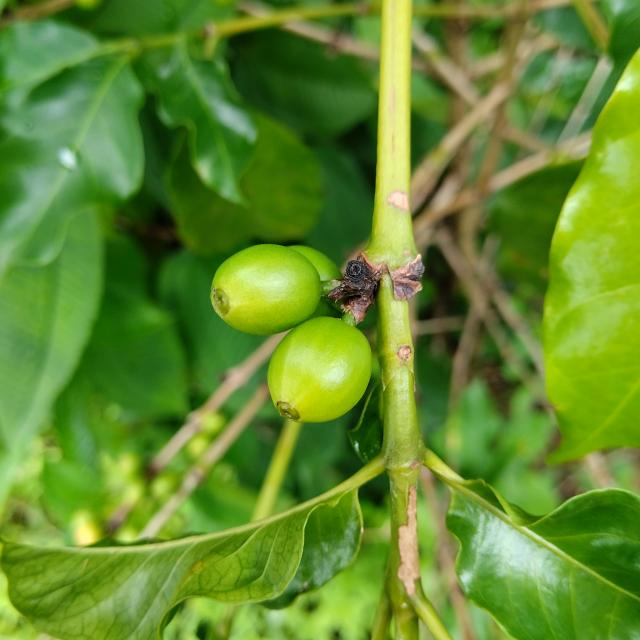green: (268, 317, 372, 423), (210, 244, 321, 335), (289, 245, 343, 281)
